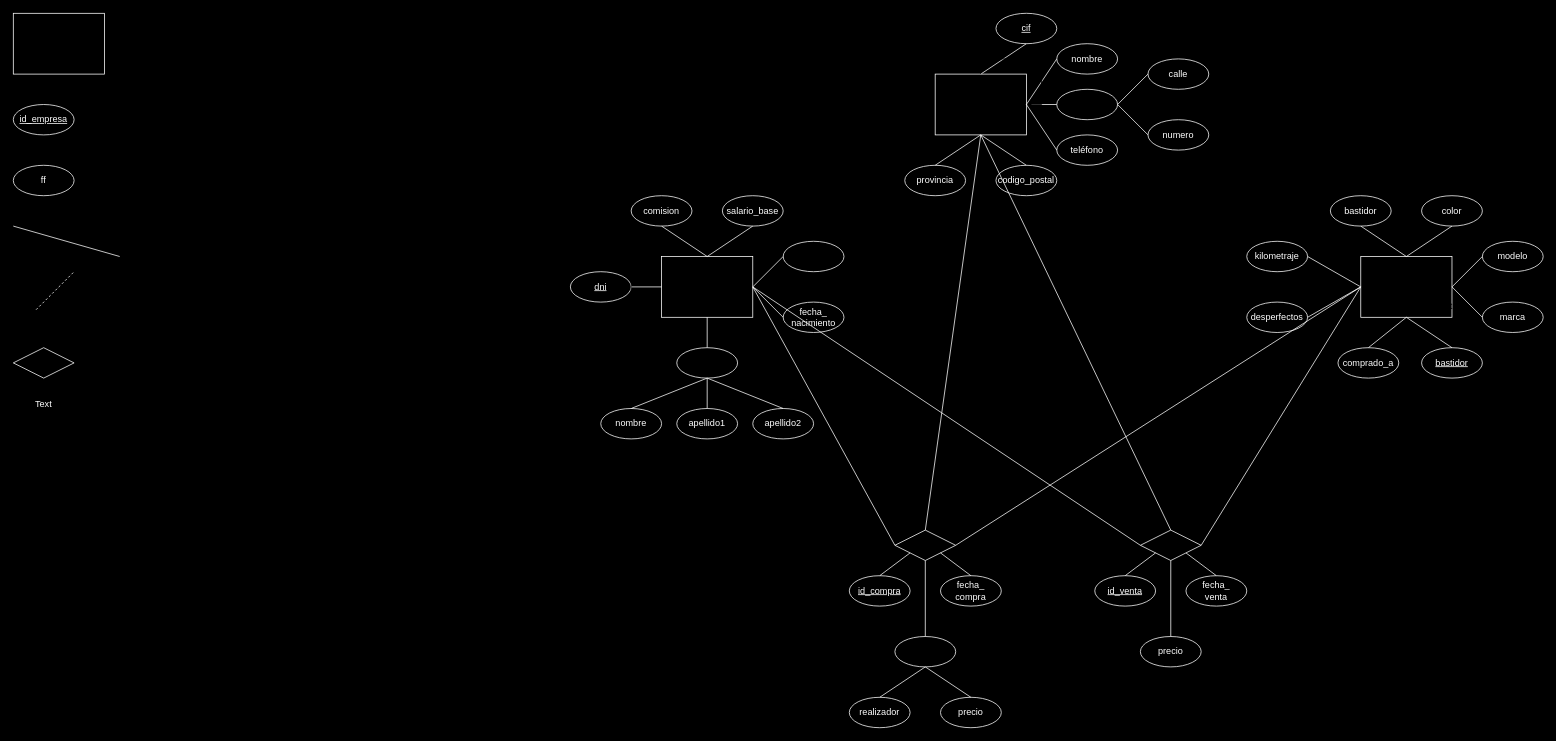
This 1556x741 diagram has some shape labels left out. Here are the shapes that lost their labels. From the top down, the box of each, then its label:
(13, 13, 104, 74): proyectos
(934, 73, 1026, 135): cliente
(1056, 89, 1118, 120): dirección
(782, 241, 844, 272): fecha_ contratacion
(661, 256, 753, 317): trabajadores
(1360, 256, 1452, 317): coches
(13, 347, 74, 378): contrata
(676, 347, 738, 378): nombre_comp
(894, 529, 956, 560): compra
(1140, 529, 1201, 560): venta
(894, 636, 956, 667): reparaciones
